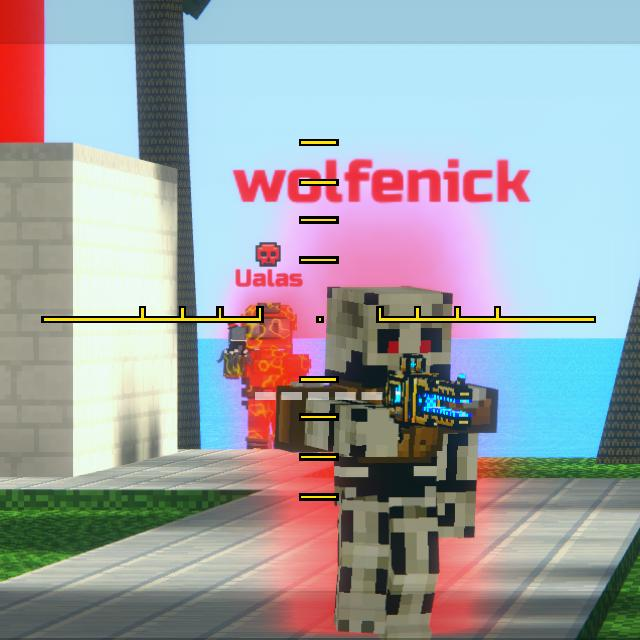Enemy: (272, 286, 500, 640), (224, 302, 311, 449)
